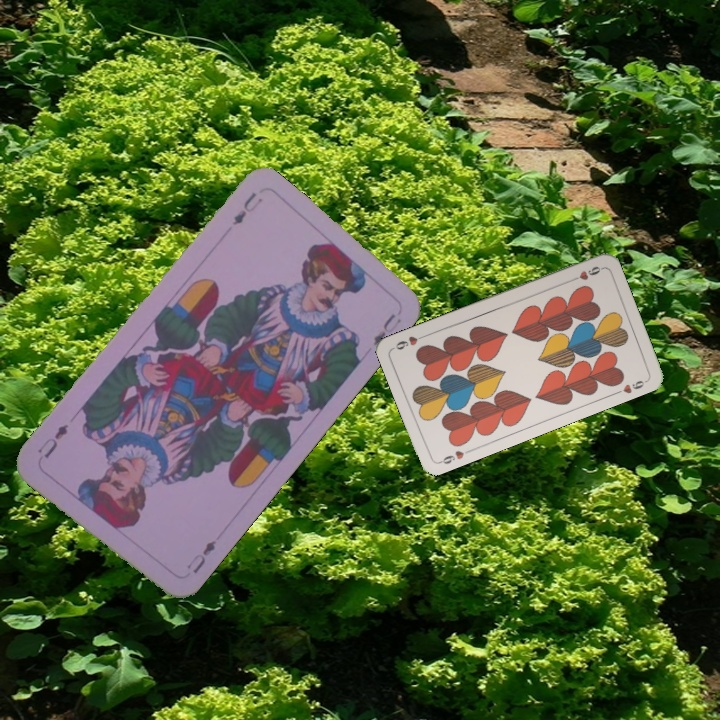EU: (182, 536, 220, 576), (228, 188, 265, 228)
H9: (566, 262, 605, 284), (435, 446, 466, 467)
